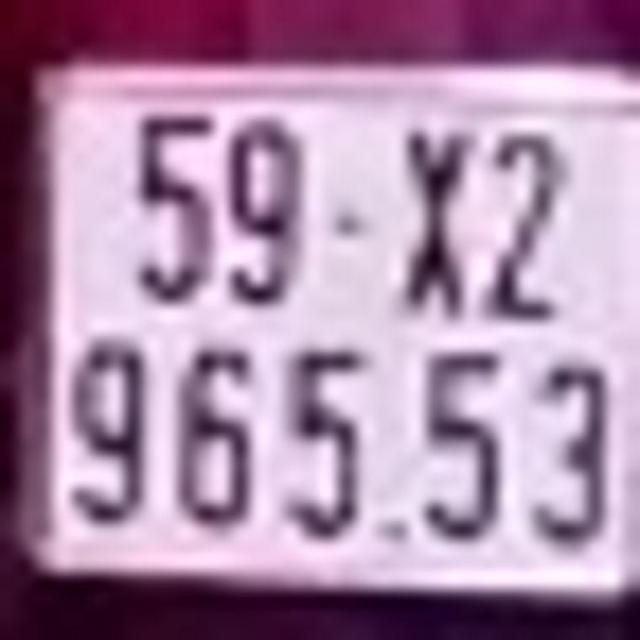2: (485, 120, 555, 322)
3: (534, 348, 606, 546)
5: (416, 344, 508, 547), (285, 330, 366, 544), (137, 105, 210, 297)
6: (167, 336, 256, 525)
9: (219, 106, 306, 305), (60, 334, 146, 516)
X: (400, 120, 471, 319)
